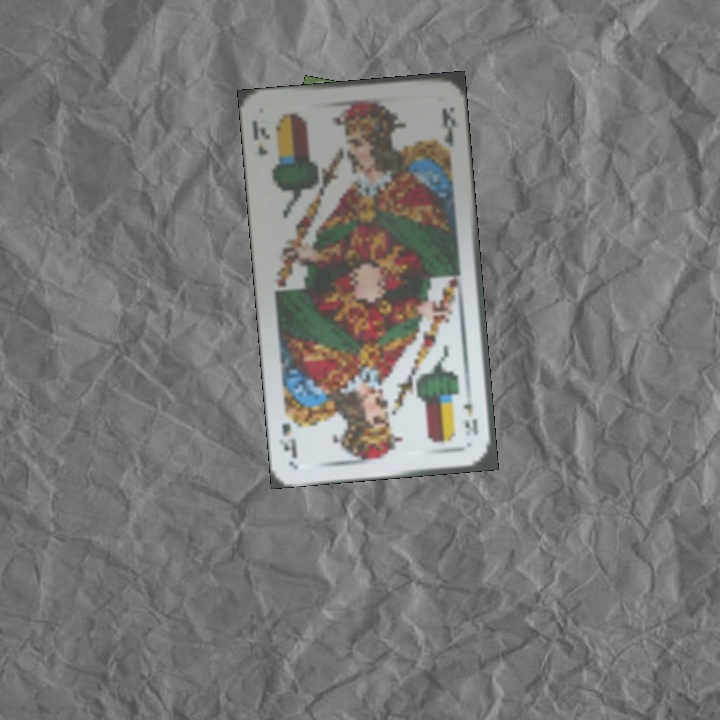EK: (458, 386, 480, 438), (248, 115, 272, 158)
